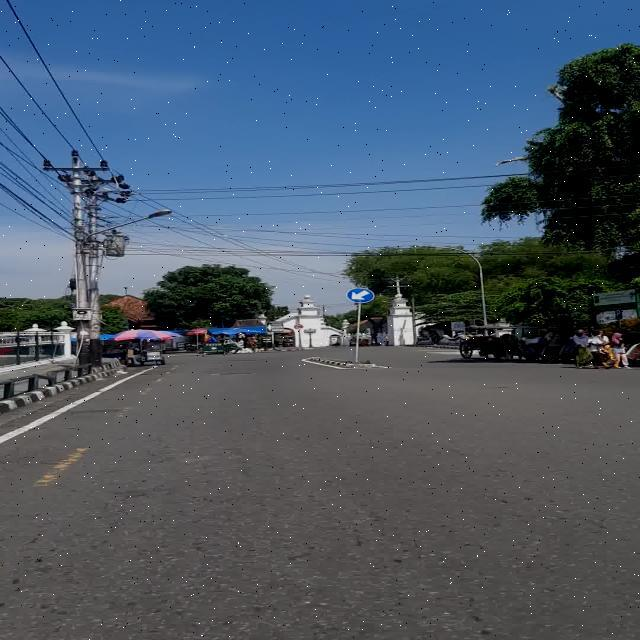Lajur Kiri: (346, 288, 375, 304)
